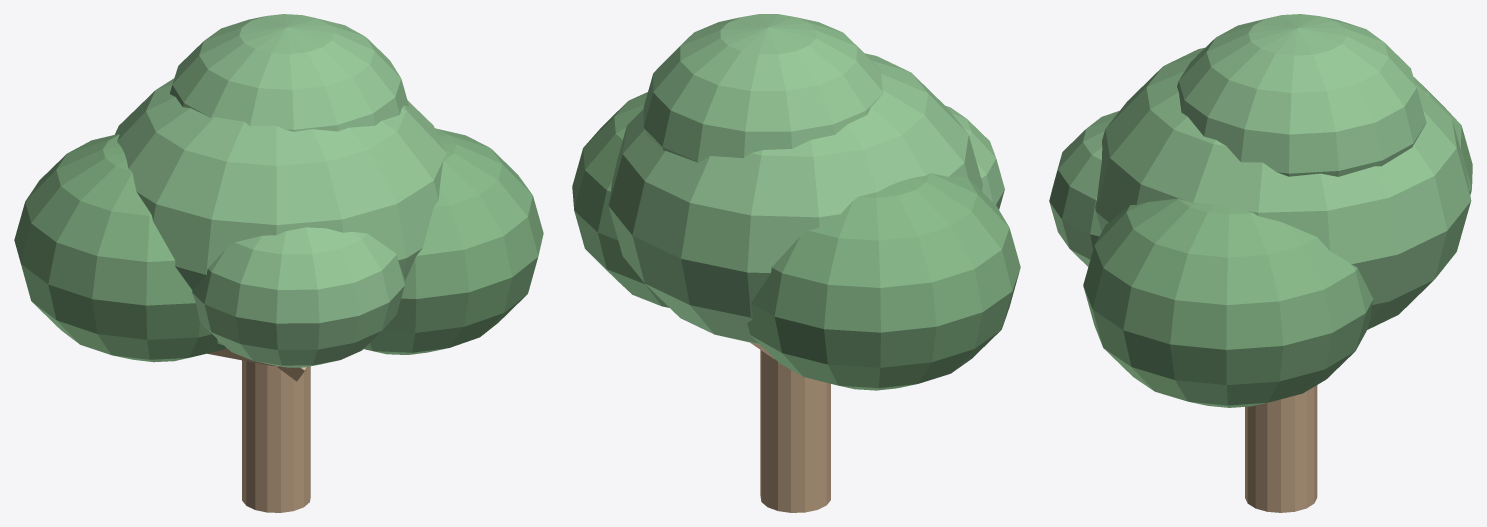
Rendered from LargeDarkTree.glb.
3 renders of one model, left to right at view 1: azimuth 30°, elevation 25°; view 2: azimuth 150°, elevation 25°; view 3: azimuth 270°, elevation 25°, orthographic. The views are drawn at different scales.
Parts seen in each view (by area): view 1: LargeDarkTree_1, LargeDarkTree_0, LargeDarkTree_2; view 2: LargeDarkTree_1, LargeDarkTree_0, LargeDarkTree_2; view 3: LargeDarkTree_1, LargeDarkTree_0, LargeDarkTree_2.
Part boxes in pixels (x1,y1,x2,y2): LargeDarkTree_1: (114,14,446,367); LargeDarkTree_0: (14,128,543,362); LargeDarkTree_2: (207,348,310,512); LargeDarkTree_1: (608,14,1004,344); LargeDarkTree_0: (572,92,1020,390); LargeDarkTree_2: (750,342,830,512); LargeDarkTree_1: (1049,14,1471,329); LargeDarkTree_0: (1083,77,1472,407); LargeDarkTree_2: (1245,385,1317,512).
Size of the model in its own units: 19.22 by 19.03 by 15.24.
